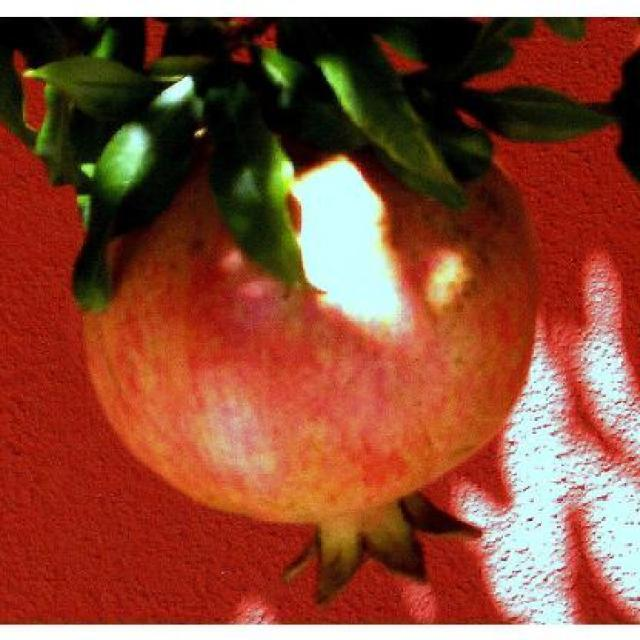Pomegranate: (72, 43, 546, 606)
